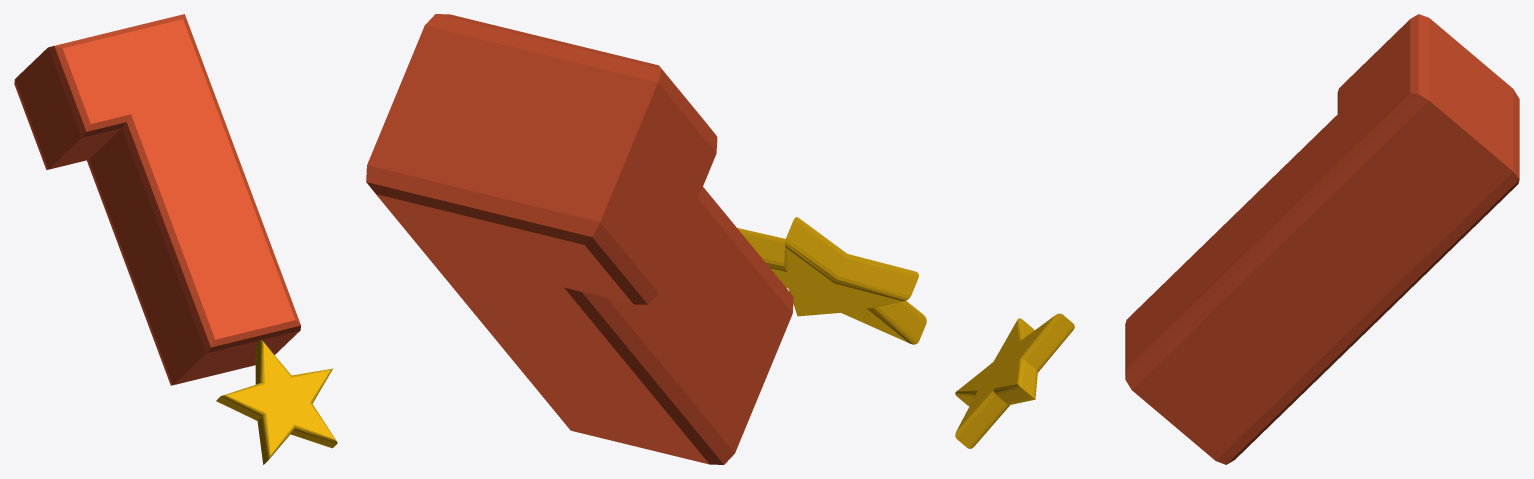
The model's file is num_1.glb.
3 renders of one model, left to right at view 1: azimuth 30°, elevation 25°; view 2: azimuth 150°, elevation 25°; view 3: azimuth 270°, elevation 25°, orthographic. The views are drawn at different scales.
Size of the model in its own units: 0.478 by 1.01 by 1.38.
